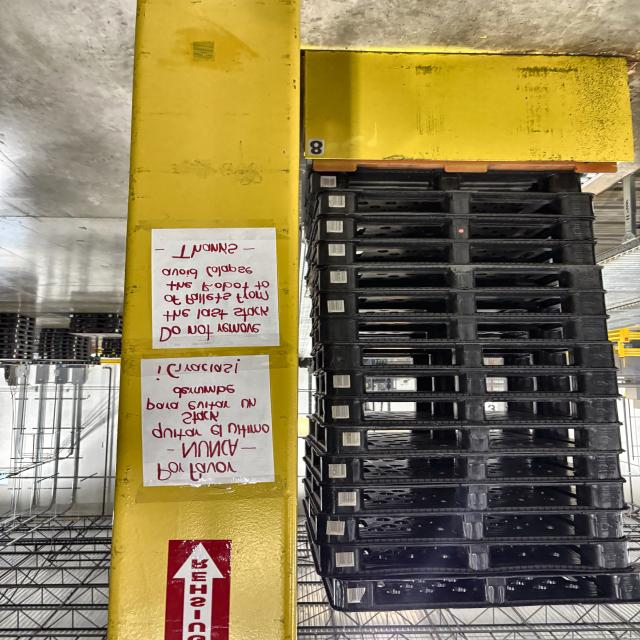igps: (327, 570, 640, 614), (322, 538, 637, 576), (319, 511, 635, 544), (313, 187, 602, 219), (321, 484, 634, 512), (303, 164, 586, 194), (321, 396, 629, 423), (321, 455, 629, 482), (312, 240, 608, 268), (320, 370, 624, 397), (317, 425, 628, 451), (314, 292, 612, 318), (321, 344, 622, 369), (316, 216, 604, 242), (318, 318, 616, 342), (312, 268, 610, 290), (68, 329, 124, 338), (34, 355, 92, 363), (68, 311, 120, 319), (0, 311, 37, 322), (68, 317, 121, 324), (0, 354, 36, 363), (68, 323, 120, 329), (0, 328, 38, 336), (0, 319, 37, 327), (0, 324, 37, 332), (0, 334, 37, 342), (0, 344, 38, 351), (0, 339, 36, 346), (38, 335, 78, 341), (37, 339, 77, 344), (0, 349, 39, 354), (36, 352, 77, 356), (36, 344, 76, 348), (36, 348, 76, 352), (38, 332, 77, 336), (101, 336, 123, 342), (40, 328, 71, 332), (99, 354, 122, 358), (100, 348, 122, 352), (101, 342, 123, 345), (101, 352, 122, 354), (101, 346, 122, 348)
